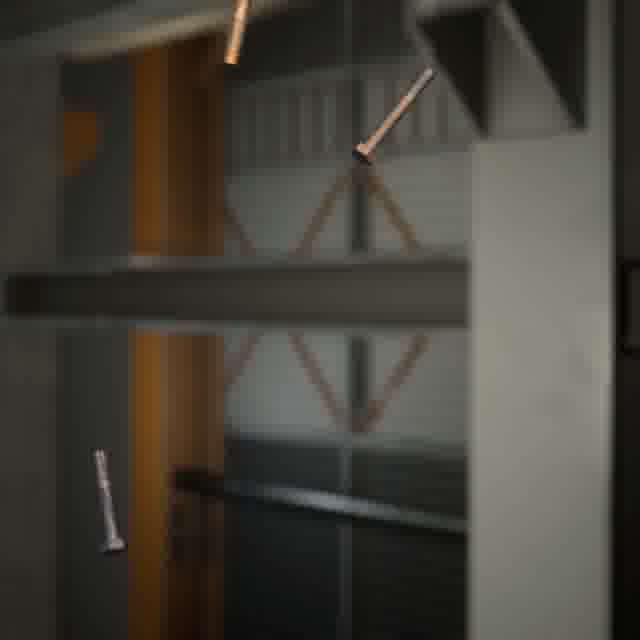bolt: (346, 62, 440, 169), (88, 445, 133, 559), (219, 0, 256, 70)
